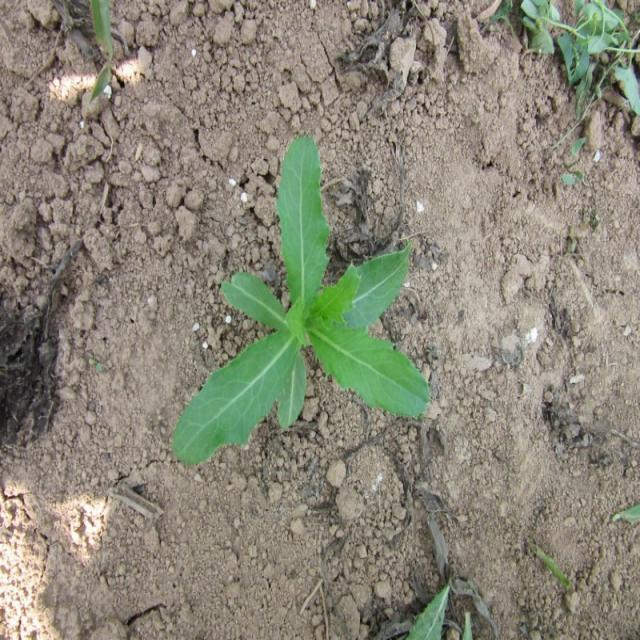cs: (169, 132, 433, 468)
